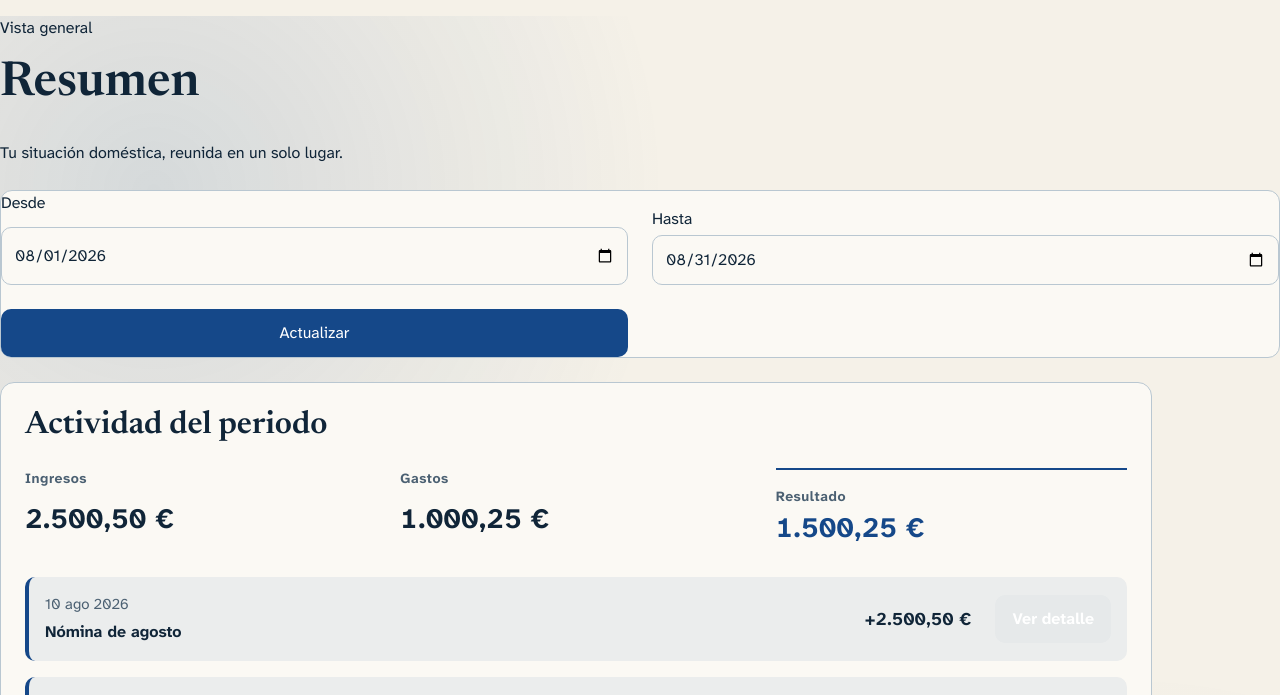
Test: ReportsSummary › communicates detail loading, error and missing states
Click the button with aria-label "Ver detalle de Nómina de agosto": (1053, 619) [995, 595, 1111, 643]
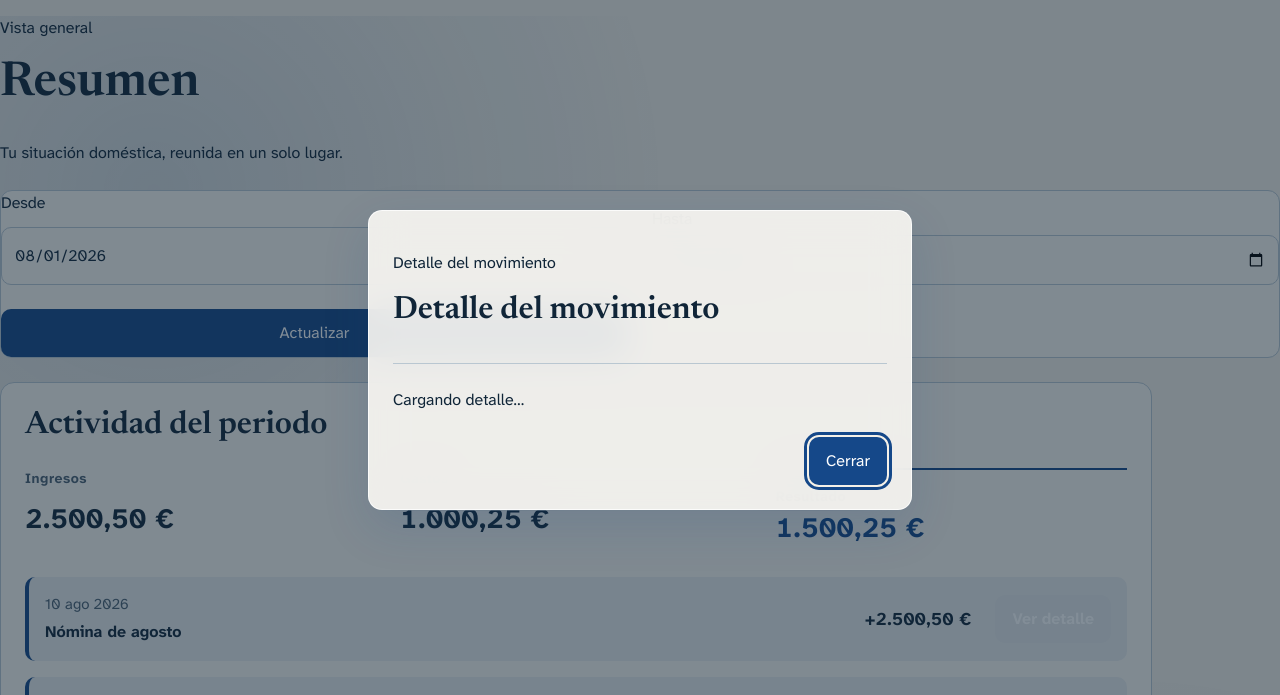
Check: the message shows "Cargando detalle", box [393, 390, 524, 410]
Press Tab
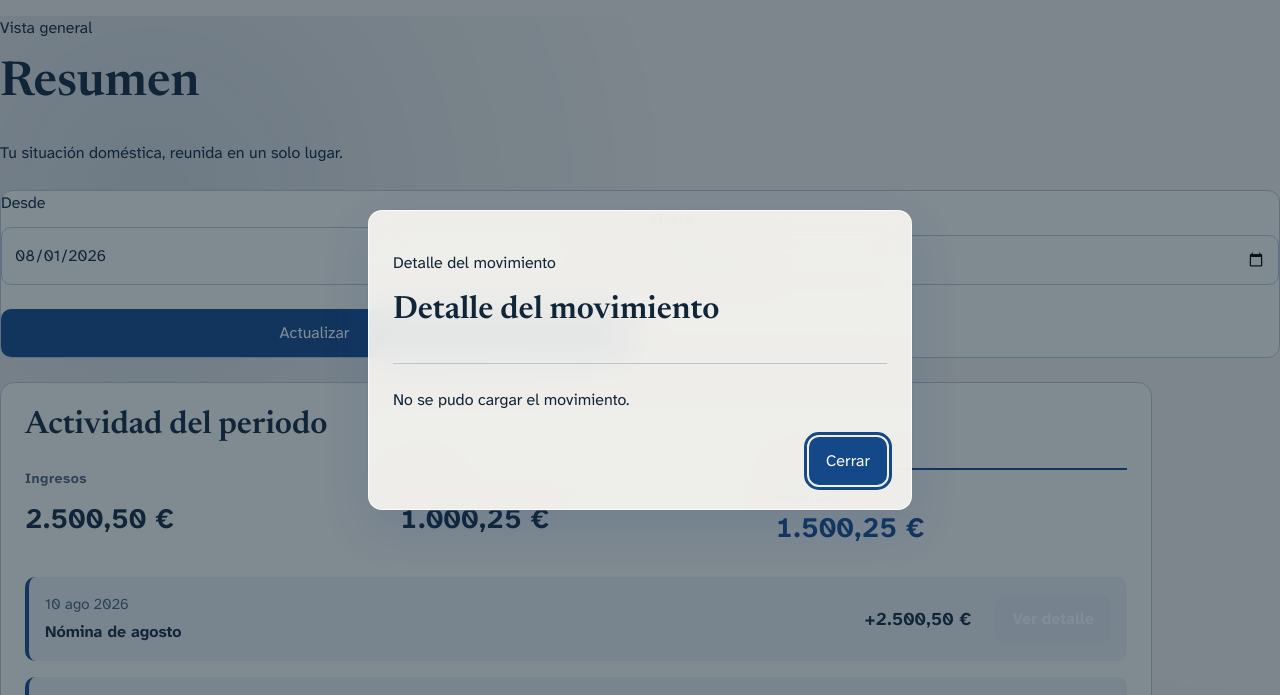
Check: the message shows "No se pudo cargar el movimiento", box [393, 390, 629, 410]
Click the button "Cerrar": (848, 461) [809, 437, 887, 485]
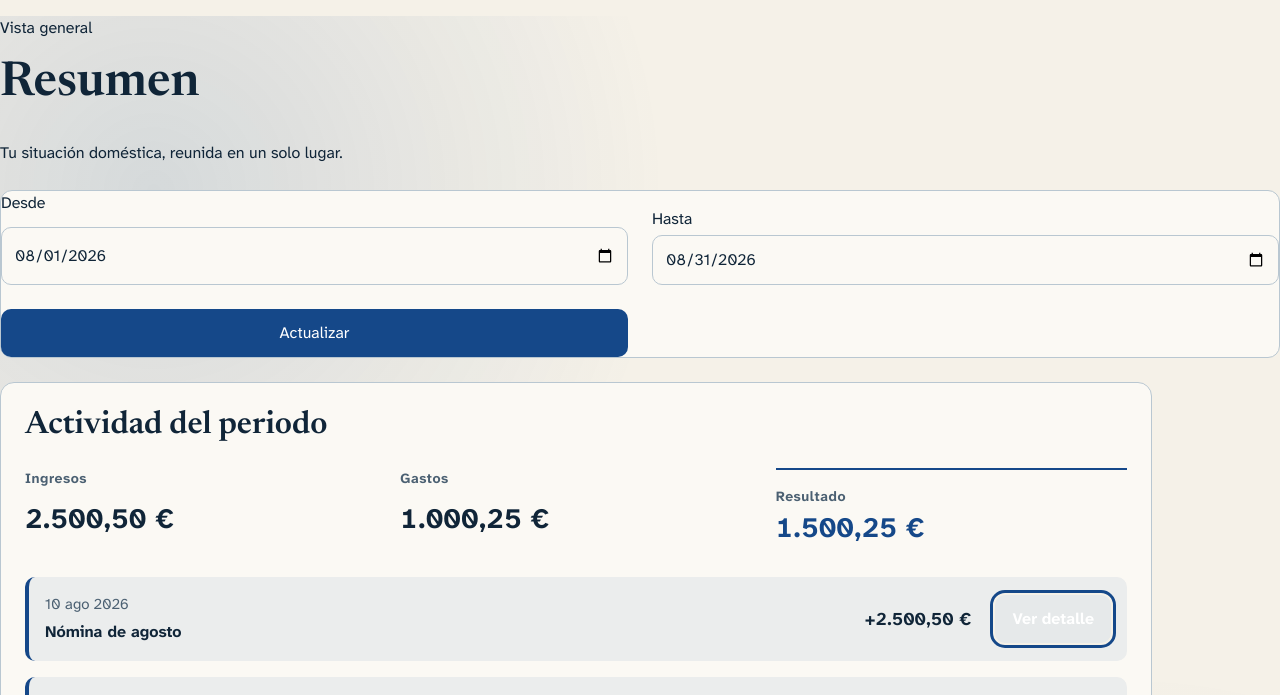
Click the button with aria-label "Ver detalle de Nómina de agosto": (1053, 619) [995, 595, 1111, 643]
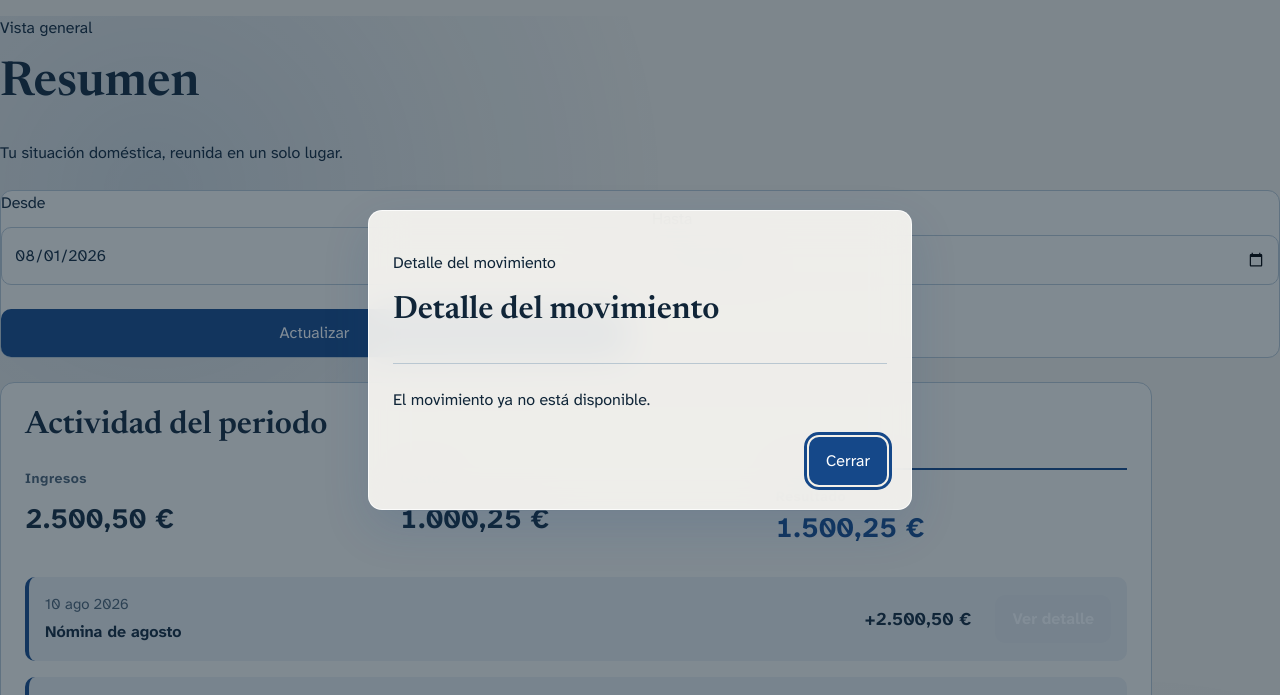
Check: the text "El movimiento ya no está disponible." is shown, box [393, 390, 650, 410]
